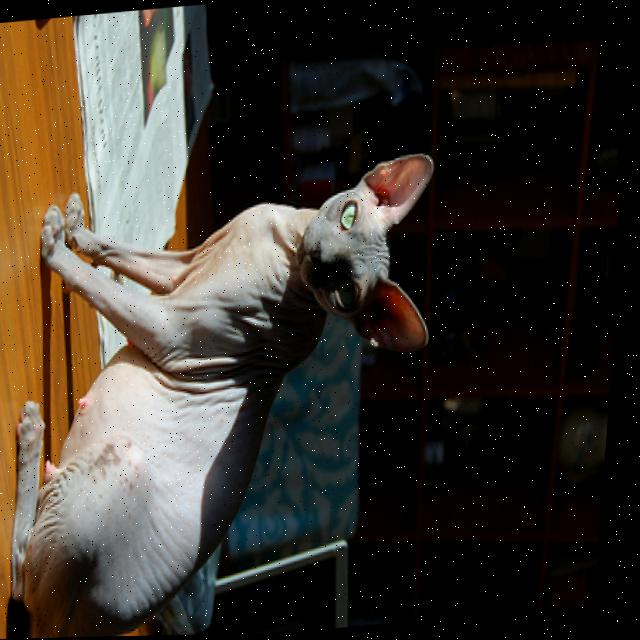Sphynx: (0, 142, 473, 640)
